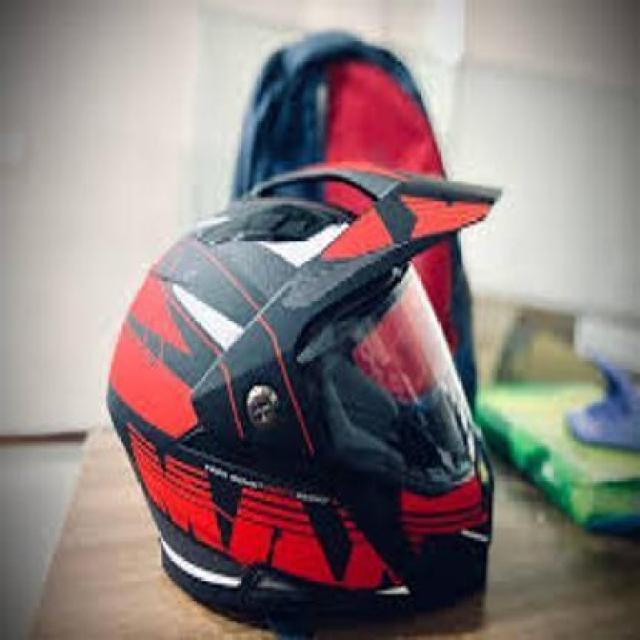not trash: (100, 165, 511, 624)
